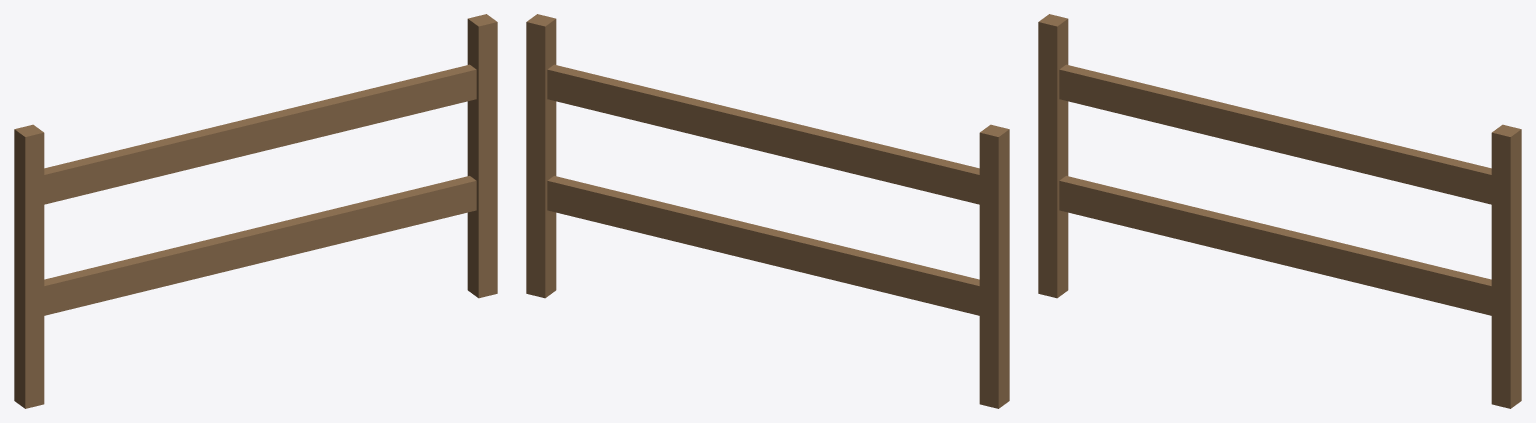
The model's file is fence.glb.
The picture shows the model from 3 angles, left to right: view 1: azimuth 30°, elevation 25°; view 2: azimuth 150°, elevation 25°; view 3: azimuth 330°, elevation 25°; orthographic projection.
Bounding box in the file's own units: 2 × 1.1 × 0.08.
